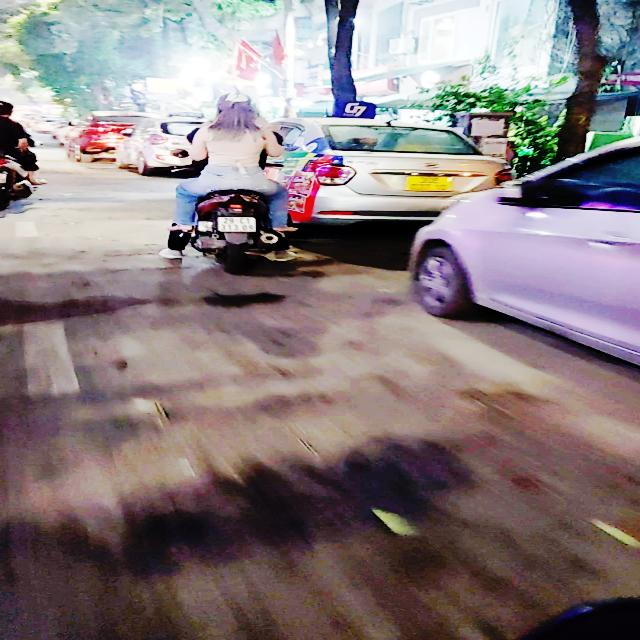license_plate: (215, 216, 259, 235)
